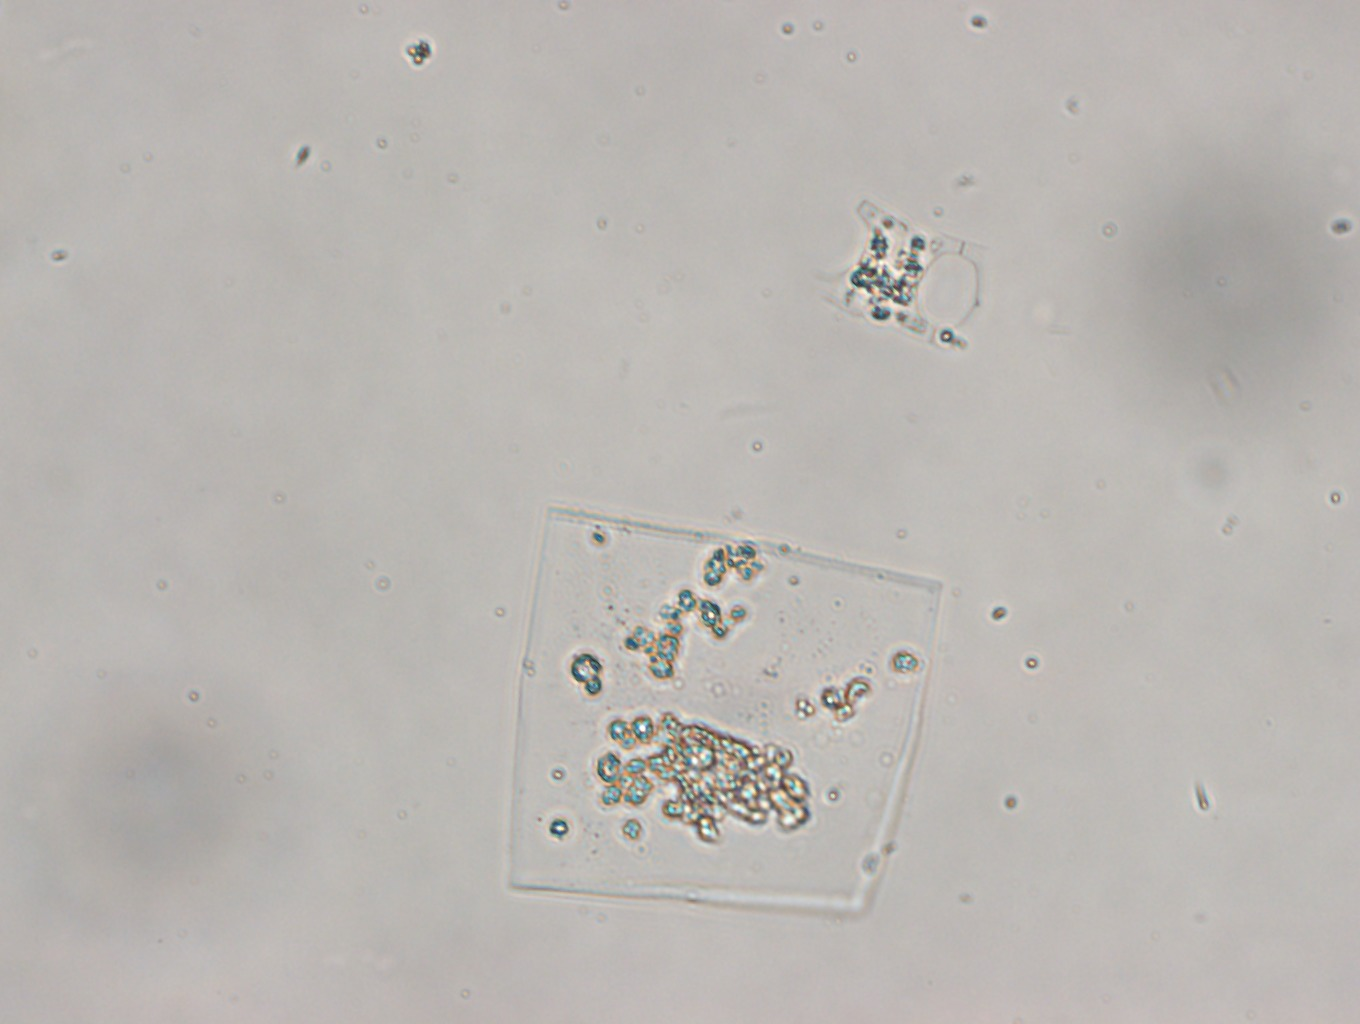eucampia: (812, 194, 998, 359)
helicotheca: (507, 504, 945, 918)
